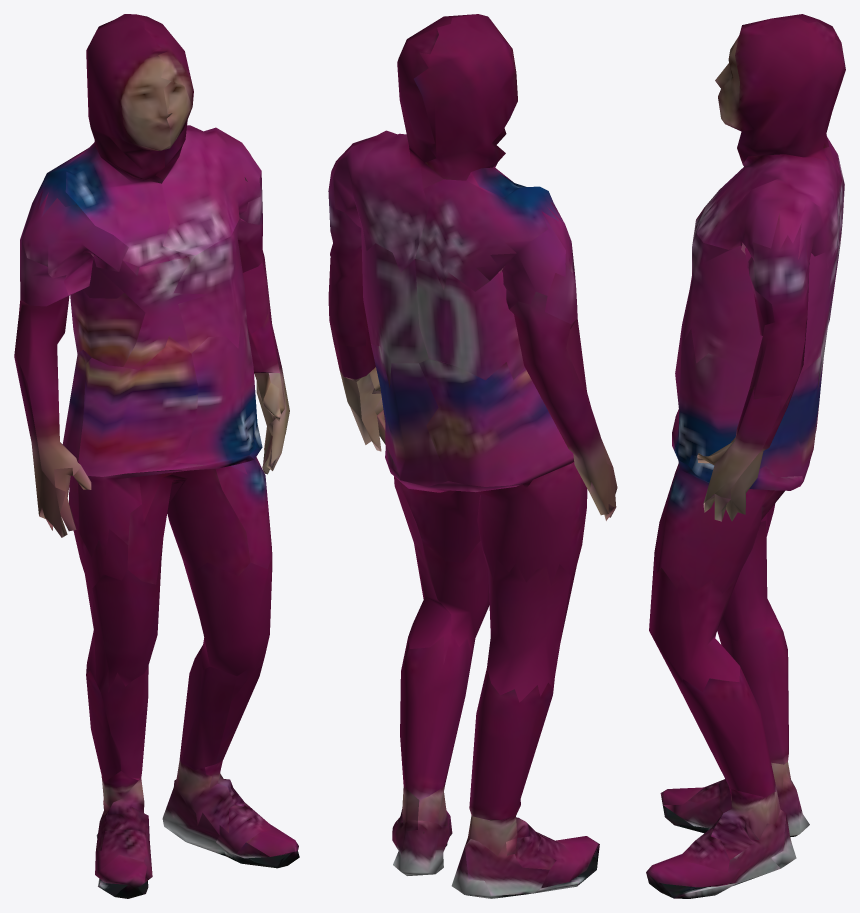
The model's file is 5_2_idle_lod2.glb.
3 renders of one model, left to right at view 1: azimuth 30°, elevation 25°; view 2: azimuth 150°, elevation 25°; view 3: azimuth 270°, elevation 25°, orthographic. The views are drawn at different scales.
Visible parts, largest first — view 1: Idle; view 2: Idle; view 3: Idle.
Part boxes in pixels (<box>): Idle: <box>14,14,299,898</box>; Idle: <box>328,14,617,898</box>; Idle: <box>646,14,845,898</box>.
Size of the model in its own units: 30.65 by 98.07 by 21.33.
Materials: 1 (1 with a texture image).
